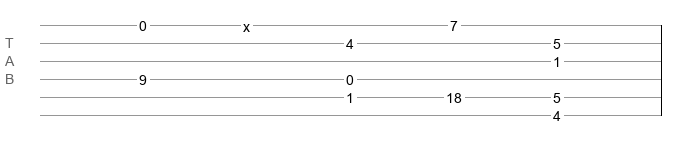0: (139, 18, 147, 28), (346, 72, 354, 82)
1: (346, 90, 354, 100), (553, 54, 561, 64)
18: (446, 90, 462, 100)
4: (346, 36, 354, 46), (553, 108, 561, 118)
5: (553, 36, 561, 46), (553, 90, 561, 100)
7: (450, 18, 458, 28)
9: (139, 72, 147, 82)
x: (243, 19, 250, 27)
